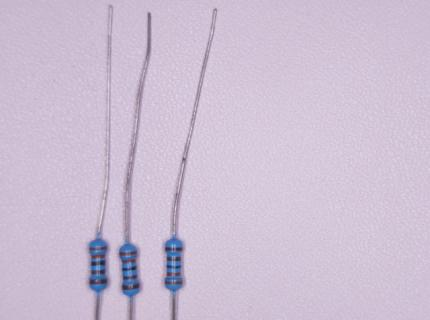Black band: (122, 266, 137, 271), (91, 260, 105, 265), (167, 265, 181, 269)
Brown band: (90, 279, 107, 285), (123, 284, 139, 290), (167, 257, 181, 262), (166, 247, 183, 251), (123, 275, 137, 279), (92, 270, 105, 274)
Orange band: (164, 281, 183, 285), (89, 246, 107, 250), (122, 259, 136, 264), (92, 254, 105, 259), (121, 251, 137, 255), (167, 273, 181, 276)
